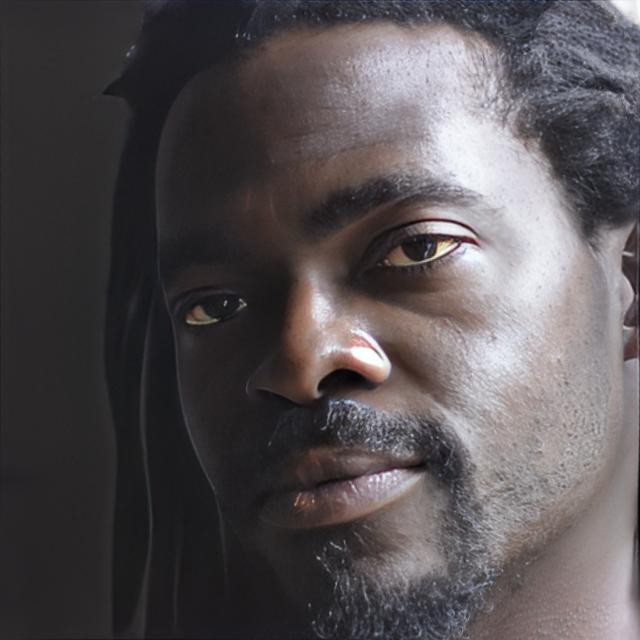content: (150, 27, 622, 640)
